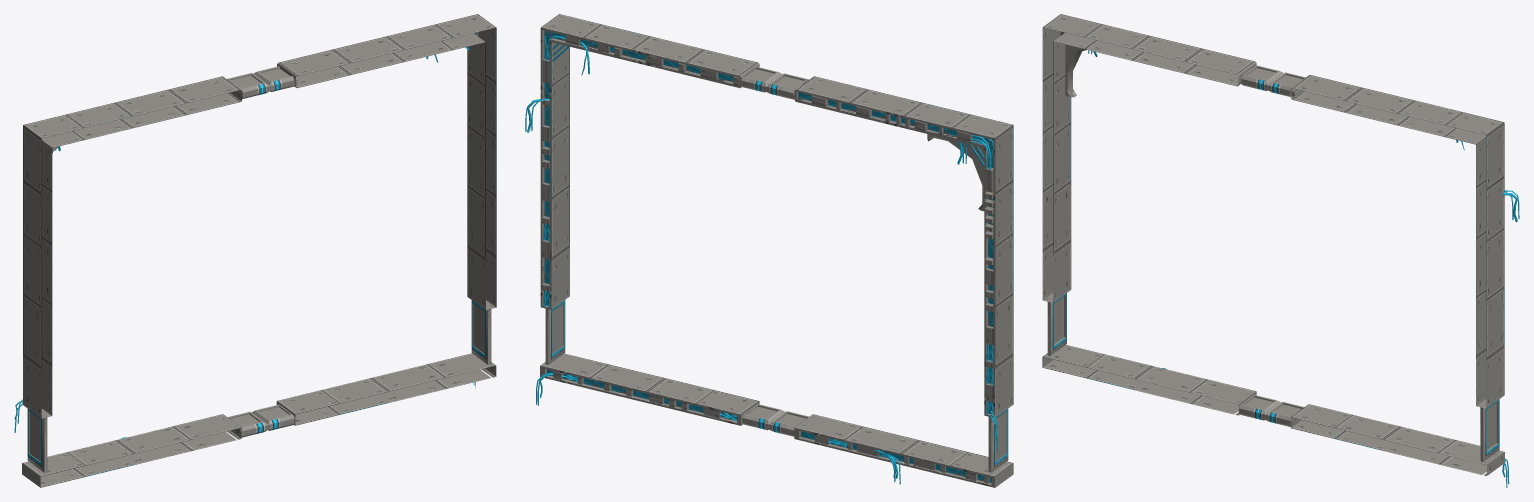
Rendered from CopyRoomArenaFBX.fbx.
3 views of the same model, side by side, from view 1: azimuth 30°, elevation 25°; view 2: azimuth 150°, elevation 25°; view 3: azimuth 330°, elevation 25° (orthographic). The views are drawn at different scales.
Parts seen in each view (by area): view 1: CornerBase6, CornerBase5, wallPiece3, wallPiece4, TopDoorLeft (×2), TopDoorRight (×2), LeftSideDoor, RightSideDoor; view 2: CornerBase5, CornerBase6, wallPiece3, wallPiece4, TopDoorLeft (×2), TopDoorRight (×2), LeftSideDoor, RightSideDoor, Arch; view 3: CornerBase5, CornerBase6, wallPiece4, wallPiece3, TopDoorRight (×2), TopDoorLeft (×2), LeftSideDoor, RightSideDoor, Arch.
Boxes of the visible parts, x1=… form: CornerBase6: x1=23, y1=76, x2=242, y2=418; CornerBase5: x1=277, y1=14, x2=496, y2=310; wallPiece3: x1=22, y1=414, x2=241, y2=487; wallPiece4: x1=276, y1=353, x2=496, y2=425; TopDoorLeft (×2): x1=251, y1=66, x2=297, y2=430; TopDoorRight (×2): x1=227, y1=73, x2=269, y2=437; LeftSideDoor: x1=471, y1=300, x2=491, y2=365; RightSideDoor: x1=27, y1=409, x2=47, y2=472; CornerBase5: x1=540, y1=14, x2=759, y2=309; CornerBase6: x1=794, y1=76, x2=1013, y2=417; wallPiece3: x1=794, y1=414, x2=1013, y2=487; wallPiece4: x1=540, y1=353, x2=759, y2=425; TopDoorLeft (×2): x1=741, y1=67, x2=784, y2=430; TopDoorRight (×2): x1=766, y1=73, x2=808, y2=436; LeftSideDoor: x1=545, y1=300, x2=565, y2=364; RightSideDoor: x1=988, y1=409, x2=1008, y2=472; Arch: x1=927, y1=134, x2=984, y2=211; CornerBase5: x1=1290, y1=75, x2=1504, y2=408; CornerBase6: x1=1042, y1=14, x2=1256, y2=302; wallPiece4: x1=1290, y1=404, x2=1504, y2=475; wallPiece3: x1=1042, y1=345, x2=1256, y2=415; TopDoorRight (×2): x1=1239, y1=65, x2=1283, y2=420; TopDoorLeft (×2): x1=1265, y1=72, x2=1305, y2=427; LeftSideDoor: x1=1480, y1=399, x2=1499, y2=461; RightSideDoor: x1=1047, y1=293, x2=1066, y2=355; Arch: x1=1065, y1=44, x2=1086, y2=97.
Bounding box in the file's own units: 43.95 × 33.63 × 4.09.
